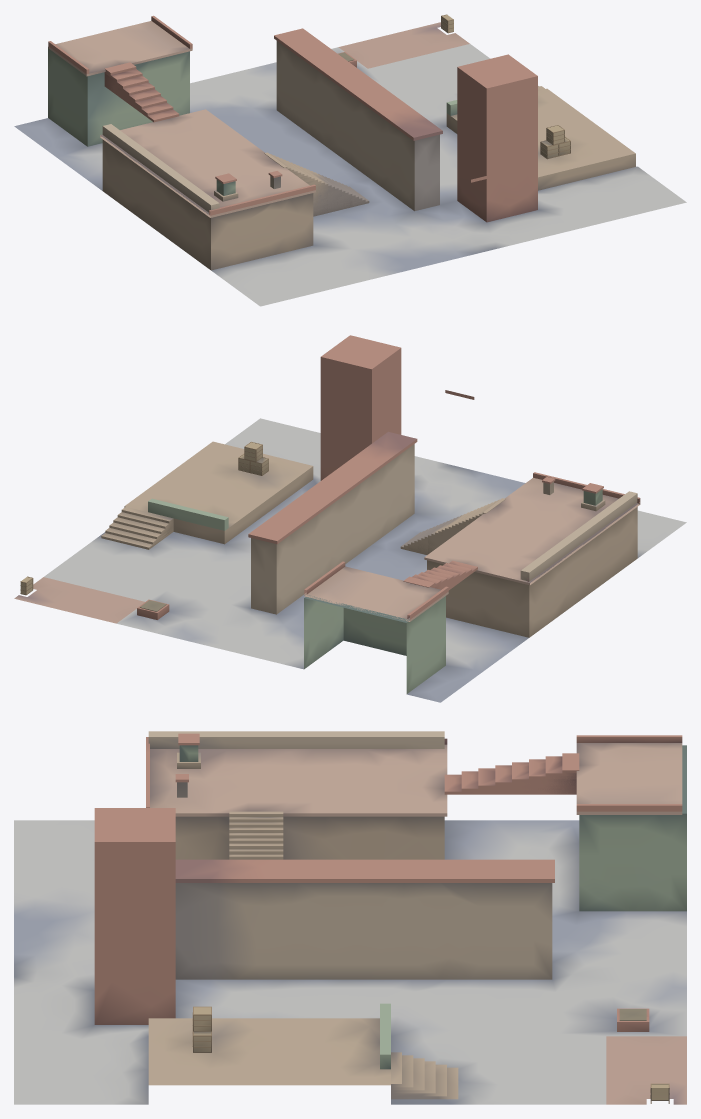
The picture shows the model from 3 angles, top to bottom: view 1: azimuth 30°, elevation 25°; view 2: azimuth 150°, elevation 25°; view 3: azimuth 270°, elevation 25°; orthographic projection. The views are drawn at different scales.
Parts seen in each view (by area): view 1: t; view 2: t; view 3: t.
Boxes of the visible parts, left/top/right/bottom form: t: left=14, top=14, right=686, bottom=306; t: left=14, top=335, right=686, bottom=702; t: left=14, top=731, right=686, bottom=1104.
Bounding box in the file's own units: 50.2 × 15 × 50.
